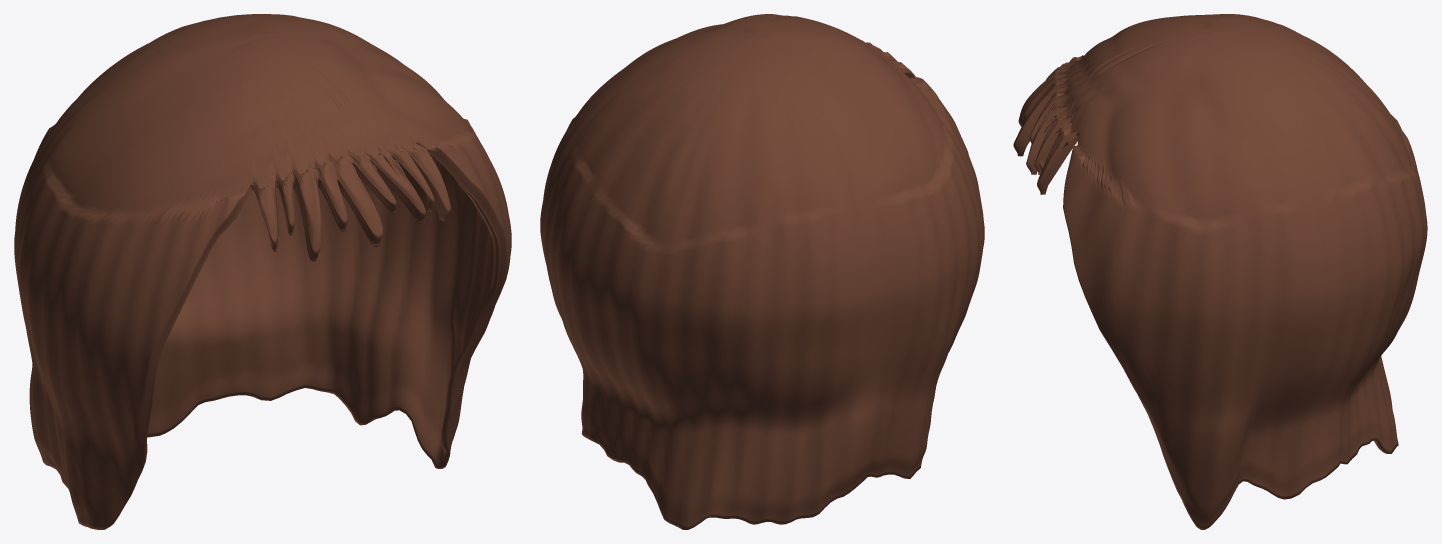
The model's file is side-sweep-headband.glb.
The picture shows the model from 3 angles, left to right: view 1: azimuth 30°, elevation 25°; view 2: azimuth 150°, elevation 25°; view 3: azimuth 270°, elevation 25°; orthographic projection. The views are drawn at different scales.
Parts seen in each view (by area): view 1: Hair / layered lob; view 2: Hair / layered lob; view 3: Hair / layered lob.
Boxes of the visible parts, bbox=[...] form: Hair / layered lob: bbox=[14, 14, 511, 529]; Hair / layered lob: bbox=[540, 14, 984, 529]; Hair / layered lob: bbox=[1013, 14, 1427, 529].
Size of the model in its own units: 0.8388 by 0.8786 by 0.782.
